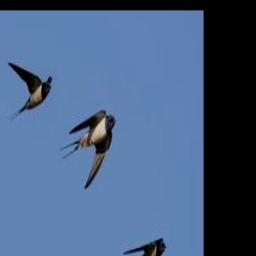Swallow: (58, 109, 116, 188), (8, 62, 52, 122), (123, 238, 166, 256)
